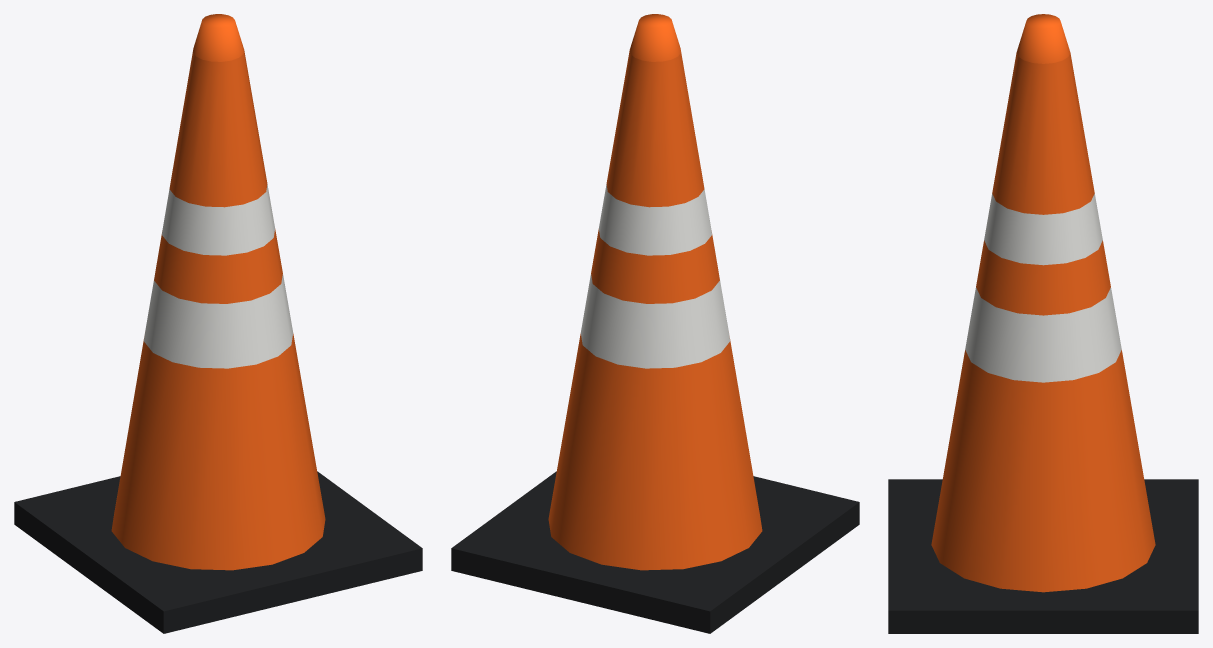
The model's file is traffic-cone.glb.
3 renders of one model, left to right at view 1: azimuth 30°, elevation 25°; view 2: azimuth 150°, elevation 25°; view 3: azimuth 270°, elevation 25°, orthographic. The views are drawn at different scales.
Visible parts, largest first — view 1: cone; view 2: cone; view 3: cone.
Part boxes in pixels (x1=…): cone: x1=14, y1=14, x2=422, y2=633; cone: x1=451, y1=14, x2=859, y2=633; cone: x1=888, y1=14, x2=1198, y2=633.
Size of the model in its own units: 0.36 by 0.7 by 0.36.
